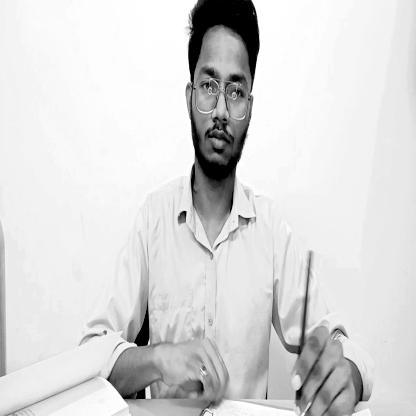Normal: (185, 3, 264, 181)
